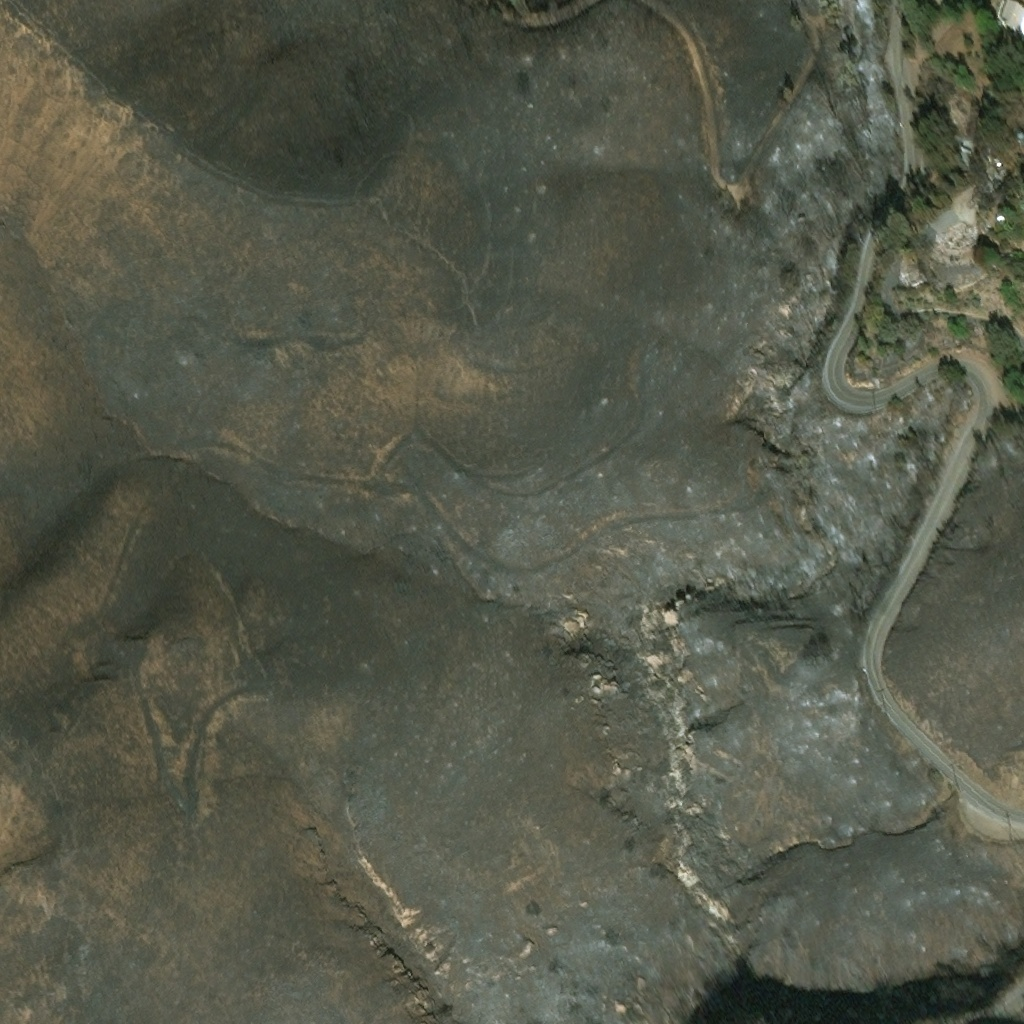3 destroyed: (940, 213, 977, 245), (990, 0, 1023, 31), (964, 178, 989, 201), (920, 161, 940, 185), (899, 267, 920, 287), (949, 122, 965, 148), (981, 78, 999, 94), (996, 248, 1012, 257), (1012, 121, 1021, 130)
